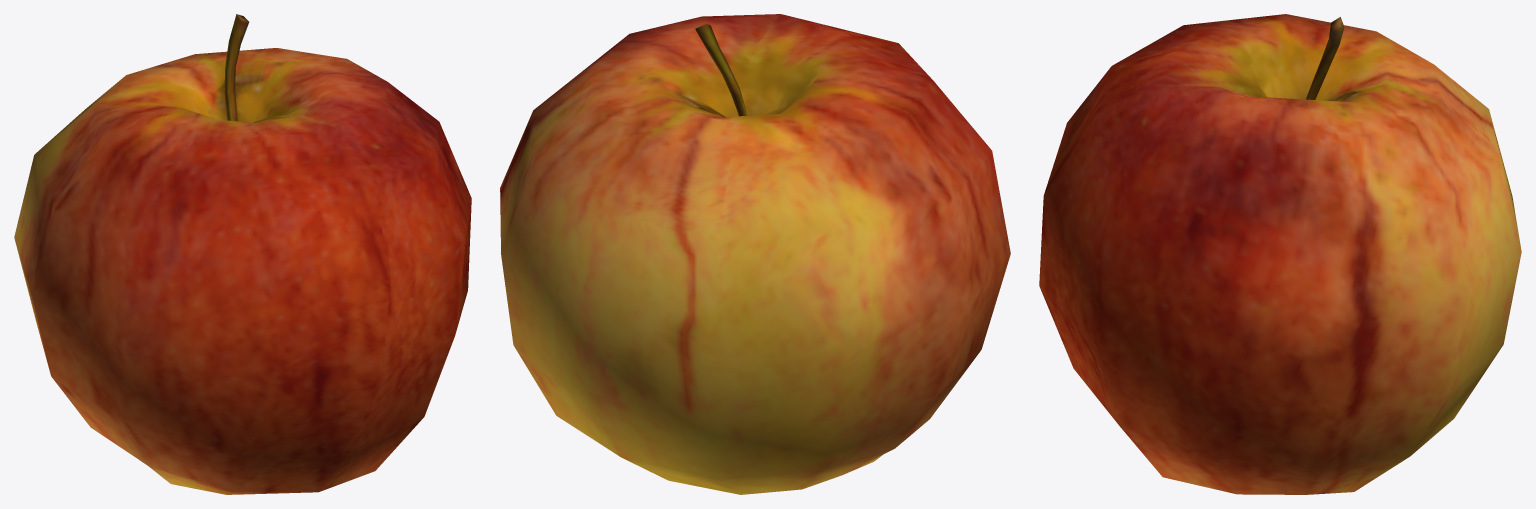
Rendered from Prop_Vegetables_Apple.fbx.
3 views of the same model, side by side, from view 1: azimuth 30°, elevation 25°; view 2: azimuth 150°, elevation 25°; view 3: azimuth 270°, elevation 25° (orthographic). The views are drawn at different scales.
Parts seen in each view (by area): view 1: Prop_Vegetables_Apple; view 2: Prop_Vegetables_Apple; view 3: Prop_Vegetables_Apple.
Boxes of the visible parts, x1=… form: Prop_Vegetables_Apple: x1=14, y1=14, x2=471, y2=494; Prop_Vegetables_Apple: x1=500, y1=14, x2=1010, y2=494; Prop_Vegetables_Apple: x1=1039, y1=14, x2=1521, y2=494.
Bounding box in the file's own units: 5.2 × 5.2 × 5.04.
